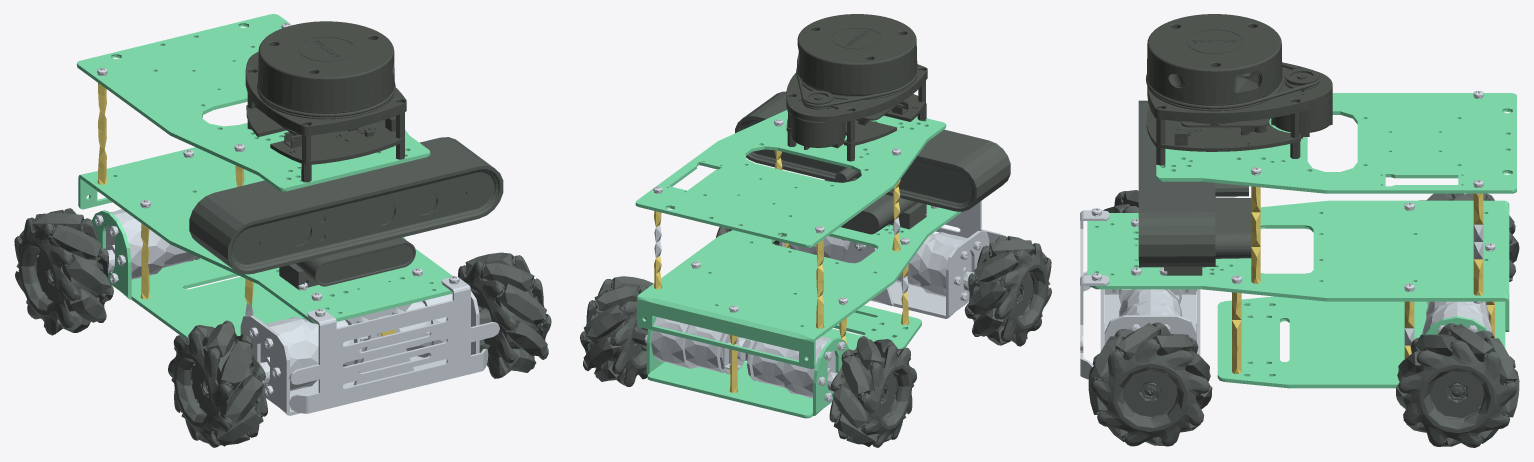
File: rosmaster_unified.glb
The picture shows the model from 3 angles, left to right: view 1: azimuth 30°, elevation 25°; view 2: azimuth 150°, elevation 25°; view 3: azimuth 270°, elevation 25°; orthographic projection. The views are drawn at different scales.
Visible parts, largest first — view 1: rgbd_camera, lidar_sensor, plate_300, plate_256, part_204, wheel_27, wheel_117, plate_177, wheel_87, part_248, part_228, part_183 (+1 smaller); view 2: plate_256, plate_300, lidar_sensor, rgbd_camera, plate_177, wheel_117, wheel_27, wheel_57, part_248, part_174, part_183, part_228 (+2 smaller); view 3: plate_256, plate_300, lidar_sensor, plate_177, wheel_57, wheel_87, rgbd_camera, part_248, part_241, part_174, part_204, wheel_27 (+3 smaller).
Boxes of the visible parts, x1,y1,x2,y2 form: rgbd_camera: [189, 137, 503, 289]; lidar_sensor: [245, 21, 406, 182]; plate_300: [76, 14, 430, 191]; plate_256: [78, 147, 452, 323]; part_204: [289, 277, 499, 413]; wheel_27: [14, 208, 113, 335]; wheel_117: [168, 320, 267, 447]; plate_177: [92, 210, 304, 337]; wheel_87: [458, 252, 551, 378]; part_248: [240, 291, 479, 415]; part_228: [259, 317, 361, 390]; part_183: [106, 209, 199, 279]; plate_256: [637, 204, 961, 369]; plate_300: [635, 110, 946, 247]; lidar_sensor: [786, 14, 927, 161]; rgbd_camera: [735, 91, 1010, 234]; plate_177: [646, 305, 921, 418]; wheel_117: [964, 235, 1051, 346]; wheel_27: [829, 336, 916, 447]; wheel_57: [580, 276, 653, 386]; part_248: [779, 231, 989, 318]; part_174: [651, 317, 750, 374]; part_183: [745, 336, 837, 398]; part_228: [896, 232, 974, 297]; plate_256: [1087, 200, 1509, 331]; plate_300: [1156, 93, 1516, 193]; lidar_sensor: [1146, 14, 1332, 165]; plate_177: [1217, 296, 1505, 388]; wheel_57: [1396, 323, 1519, 447]; wheel_87: [1088, 322, 1212, 446]; rgbd_camera: [1138, 100, 1251, 275]; part_248: [1100, 289, 1200, 355]; part_241: [1119, 289, 1181, 316]; part_174: [1422, 301, 1492, 334]; part_204: [1080, 210, 1109, 379]; wheel_27: [1419, 193, 1519, 281].
Size of the model in its own units: 199 by 191 by 229.
